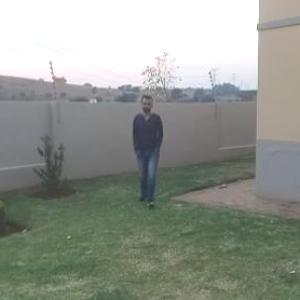follow: (130, 92, 168, 204)
